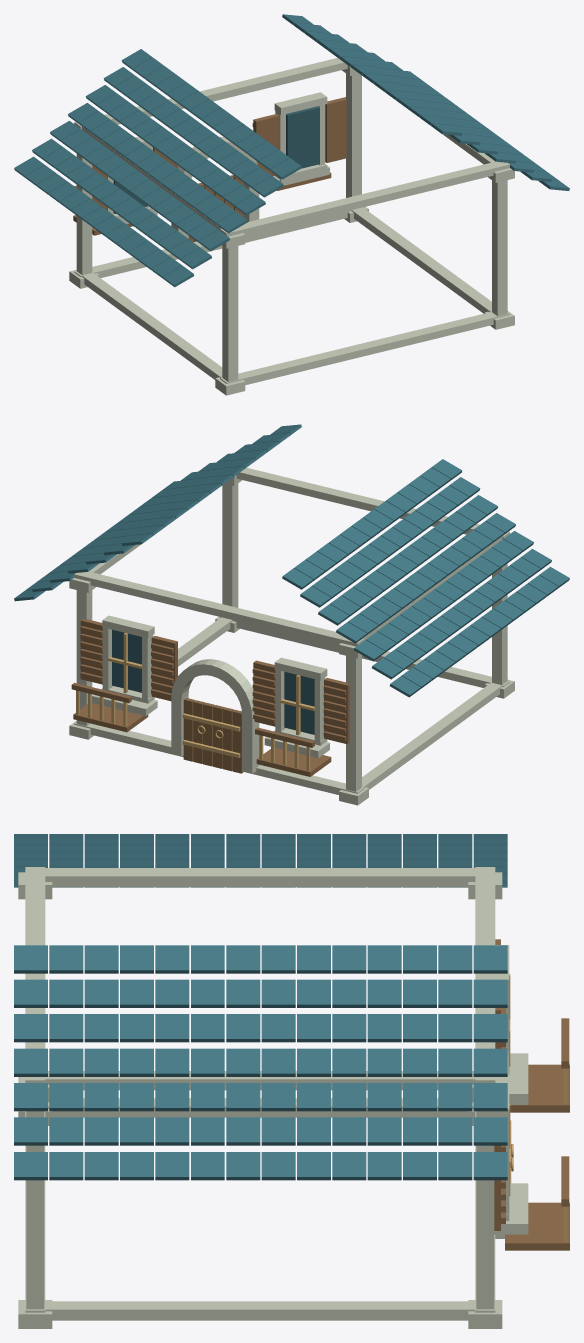
File: shipyard.glb
The picture shows the model from 3 angles, top to bottom: view 1: azimuth 30°, elevation 25°; view 2: azimuth 150°, elevation 25°; view 3: azimuth 270°, elevation 25°; orthographic projection. The views are drawn at different scales.
Parts seen in each view (by area): view 1: Recessed azure arcade glazing.003; view 2: Recessed azure arcade glazing.003; view 3: Recessed azure arcade glazing.003.
Boxes of the visible parts, left/top/right/bottom form: Recessed azure arcade glazing.003: left=14, top=14, right=569, bottom=395; Recessed azure arcade glazing.003: left=14, top=424, right=569, bottom=805; Recessed azure arcade glazing.003: left=14, top=834, right=569, bottom=1328.
Bounding box in the file's own units: 7.05 × 3.63 × 5.56.
